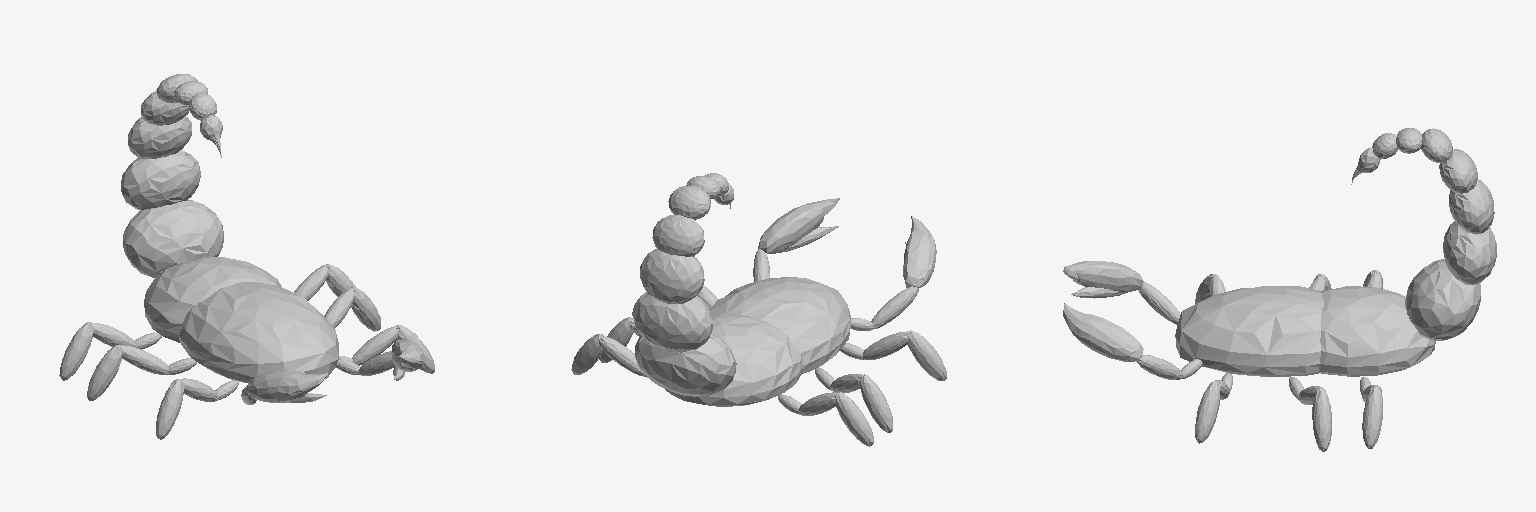
File: scorpion_000026.obj
The picture shows the model from 3 angles: view 1: azimuth 30°, elevation 25°; view 2: azimuth 150°, elevation 25°; view 3: azimuth 270°, elevation 25°; orthographic projection.
Visible parts, largest first — view 1: Sphere.010_Sphere.012, Sphere.002_Sphere.004, Sphere.011_Sphere.013, Sphere.003_Sphere.005, Sphere.030_Sphere.000, Sphere.004_Sphere.006, Sphere.012_Sphere.020, Sphere.014_Sphere.023, Sphere.000_Sphere.019, Sphere.016_Sphere.022, Sphere.013_Sphere.017, Sphere.018_Sphere.025 (+5 smaller); view 2: Sphere.010_Sphere.012, Sphere.011_Sphere.013, Sphere.002_Sphere.004, Sphere.030_Sphere.000, Sphere.003_Sphere.005, Sphere.004_Sphere.006, Sphere.014_Sphere.023, Sphere.005_Sphere.007, Sphere.012_Sphere.020, Sphere.018_Sphere.025, Sphere.028_Sphere.046, Sphere.006_Sphere.008 (+3 smaller); view 3: Sphere.010_Sphere.012, Sphere.011_Sphere.013, Sphere.002_Sphere.004, Sphere.030_Sphere.000, Sphere.003_Sphere.005, Sphere.004_Sphere.006, Sphere.028_Sphere.046, Sphere.000_Sphere.019, Sphere.005_Sphere.007, Sphere.012_Sphere.020, Sphere.014_Sphere.023, Sphere.006_Sphere.008 (+1 smaller).
Part boxes in pixels (x1,y1,x2,y2): Sphere.010_Sphere.012: (179,282,338,382); Sphere.002_Sphere.004: (123,200,223,277); Sphere.011_Sphere.013: (144,257,281,342); Sphere.003_Sphere.005: (121,150,200,210); Sphere.030_Sphere.000: (246,340,424,402); Sphere.004_Sphere.006: (128,116,191,158); Sphere.012_Sphere.020: (87,287,380,400); Sphere.014_Sphere.023: (59,264,355,380); Sphere.000_Sphere.019: (156,325,434,439); Sphere.016_Sphere.022: (120,288,354,374); Sphere.013_Sphere.017: (180,325,398,401); Sphere.018_Sphere.025: (91,265,327,346); Sphere.010_Sphere.012: (709,277,850,373); Sphere.011_Sphere.013: (665,313,803,406); Sphere.002_Sphere.004: (635,333,736,396); Sphere.030_Sphere.000: (758,198,936,287); Sphere.003_Sphere.005: (632,291,712,352); Sphere.004_Sphere.006: (640,249,704,303); Sphere.014_Sphere.023: (571,334,873,446); Sphere.005_Sphere.007: (652,215,704,256); Sphere.012_Sphere.020: (599,317,892,432); Sphere.018_Sphere.025: (599,336,837,415); Sphere.028_Sphere.046: (753,249,918,328); Sphere.006_Sphere.008: (668,186,710,219); Sphere.010_Sphere.012: (1175,286,1323,376); Sphere.011_Sphere.013: (1319,286,1435,376); Sphere.002_Sphere.004: (1405,259,1480,340); Sphere.030_Sphere.000: (1063,261,1143,361); Sphere.003_Sphere.005: (1443,221,1496,284); Sphere.004_Sphere.006: (1449,179,1494,234); Sphere.028_Sphere.046: (1136,282,1182,379); Sphere.000_Sphere.019: (1195,274,1219,443); Sphere.005_Sphere.007: (1439,149,1477,193); Sphere.012_Sphere.020: (1312,274,1331,451); Sphere.014_Sphere.023: (1362,270,1382,448); Sphere.006_Sphere.008: (1421,128,1452,162).
Size of the model in its own units: 0.9565 by 0.7652 by 1.19.